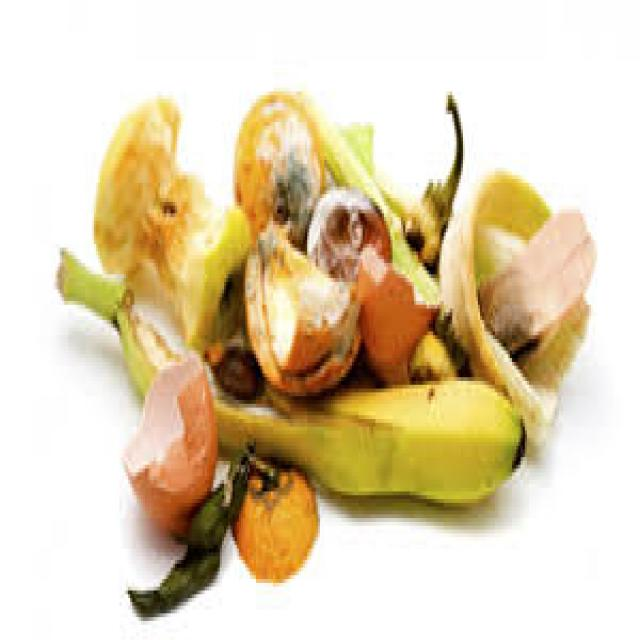food_waste: (67, 108, 579, 580)
